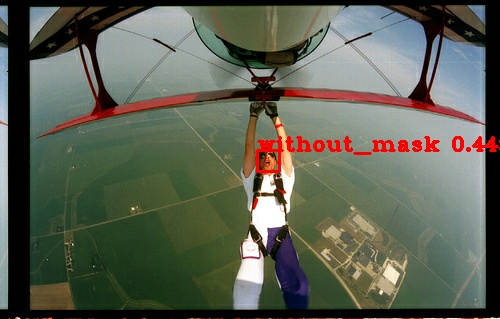without_mask: (254, 144, 282, 178)
